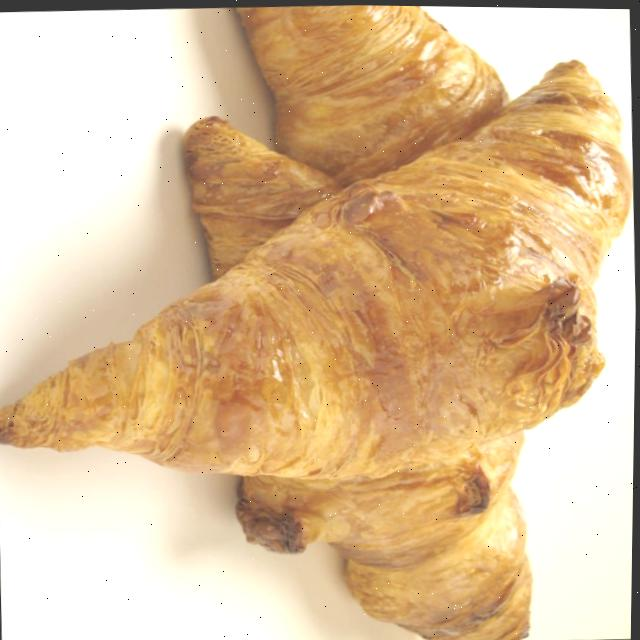面包点心: (0, 44, 639, 507)
